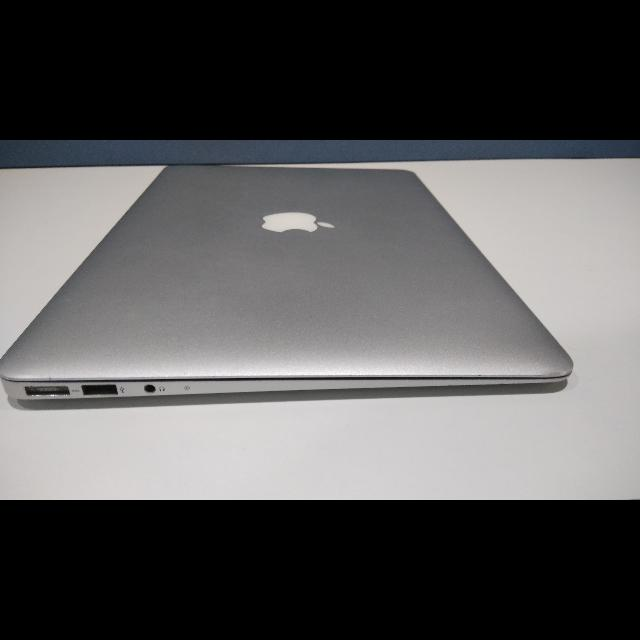Laptop: (2, 167, 580, 413)
